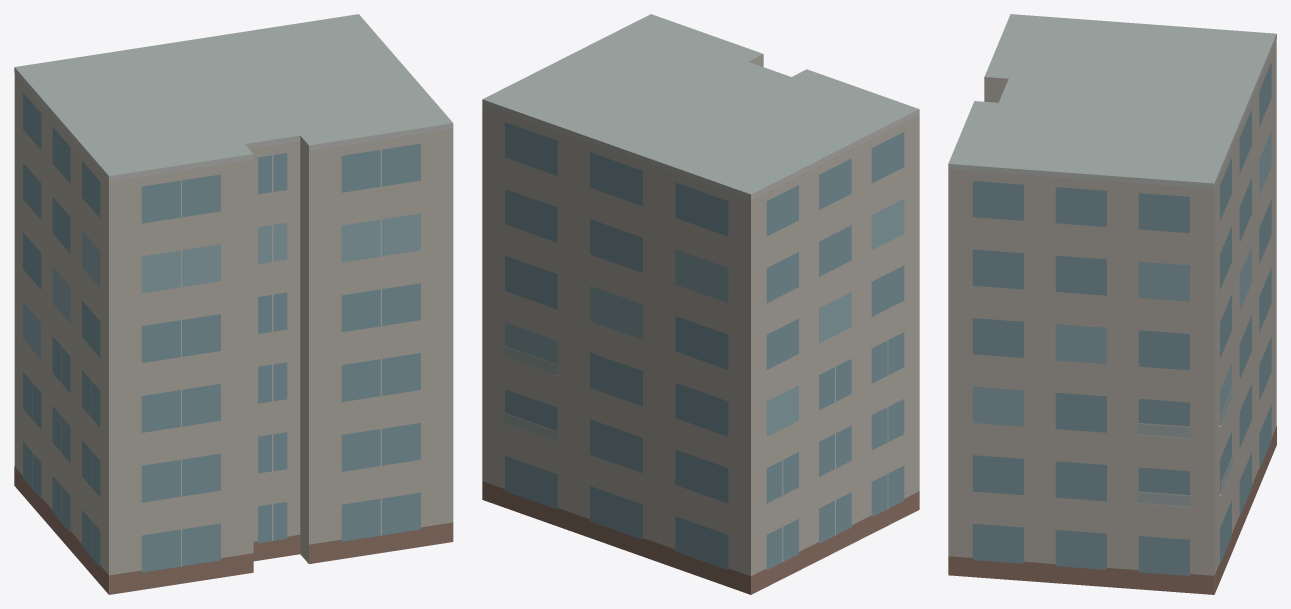
File: survey-upis-32658078.glb
3 views of the same model, side by side, from view 1: azimuth 30°, elevation 25°; view 2: azimuth 150°, elevation 25°; view 3: azimuth 270°, elevation 25° (orthographic). The views are drawn at different scales.
Visible parts, largest first — view 1: survey-upis-32658078.tmp; view 2: survey-upis-32658078.tmp; view 3: survey-upis-32658078.tmp.
Part boxes in pixels (x1,y1,x2,y2): survey-upis-32658078.tmp: [14, 14, 453, 594]; survey-upis-32658078.tmp: [482, 14, 919, 594]; survey-upis-32658078.tmp: [948, 14, 1276, 594].
Bounding box in the file's own units: 16.18 × 18.3 × 13.26.
